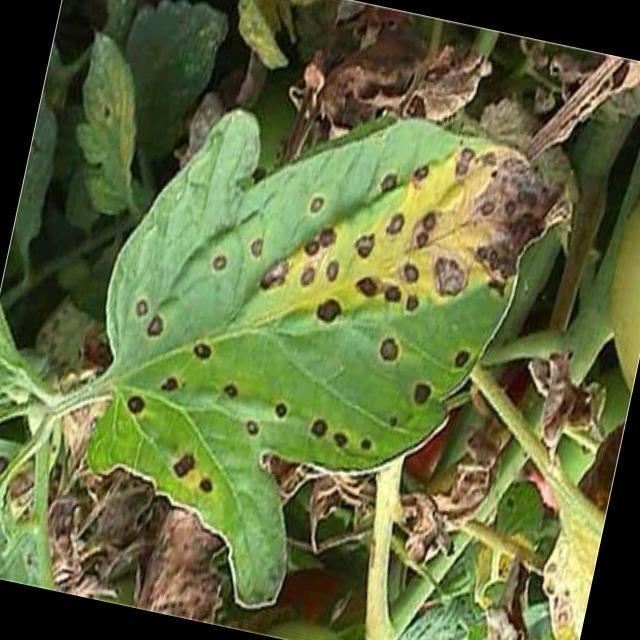Septoria: (110, 84, 518, 536)
